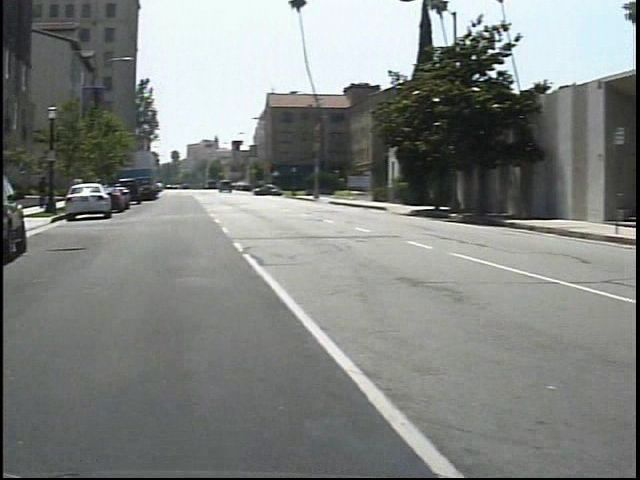person: (28, 175, 41, 211)
